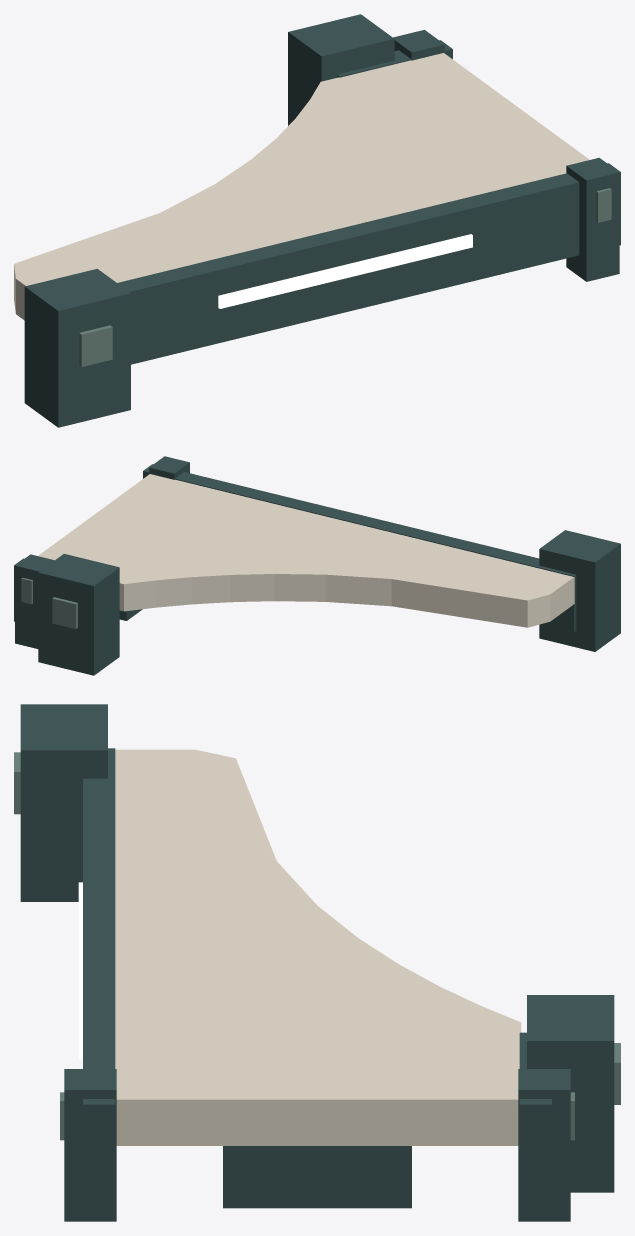
File: Pier_Angled_65_lab.glb
The picture shows the model from 3 angles, top to bottom: view 1: azimuth 30°, elevation 25°; view 2: azimuth 150°, elevation 25°; view 3: azimuth 270°, elevation 25°; orthographic projection. The views are drawn at different scales.
Parts seen in each view (by area): view 1: Pier_Angled_65; view 2: Pier_Angled_65; view 3: Pier_Angled_65.
Part boxes in pixels (box(x1,y1,x2,y2)): Pier_Angled_65: box(14, 14, 620, 427); Pier_Angled_65: box(14, 456, 620, 675); Pier_Angled_65: box(14, 704, 620, 1221).
Bounding box in the file's own units: 6.05 × 1.15 × 4.17.
